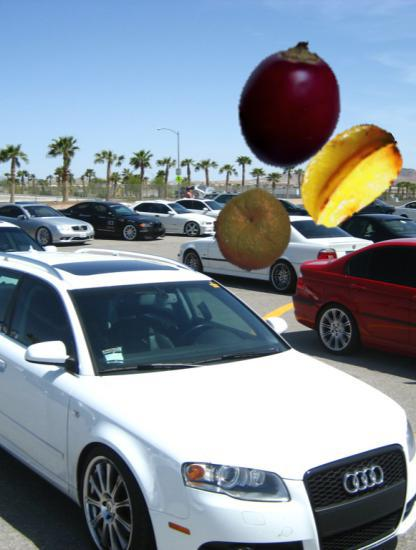Carambula: (290, 115, 407, 232)
Mandarine: (210, 187, 295, 272)
Tamarillo: (225, 41, 354, 170)
